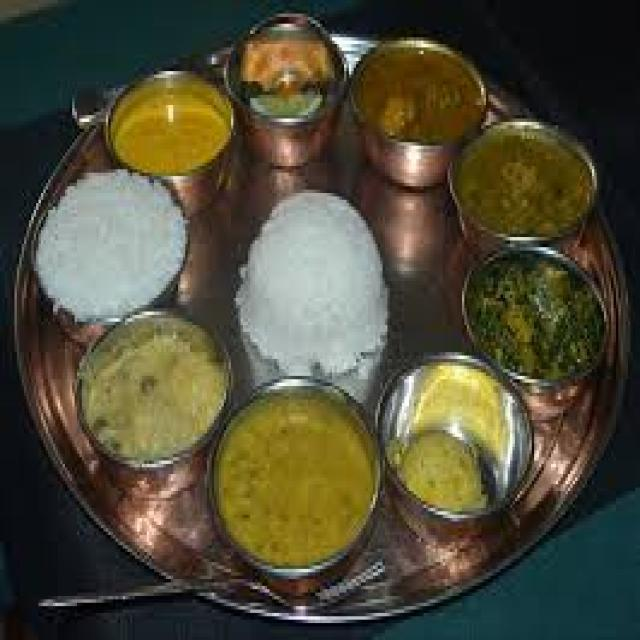dal: (221, 394, 377, 570), (73, 312, 223, 467), (98, 64, 236, 187)
rice: (234, 197, 398, 386), (26, 166, 187, 332)
veg-fry: (236, 17, 342, 120)
